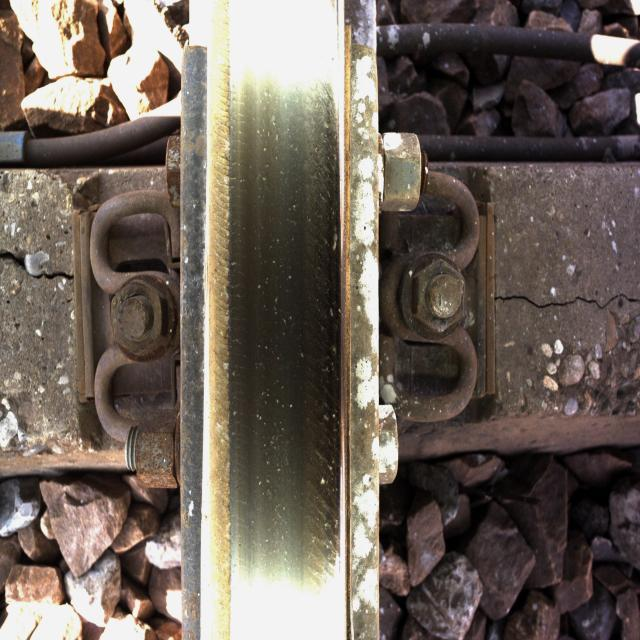normal: (228, 15, 342, 620)
